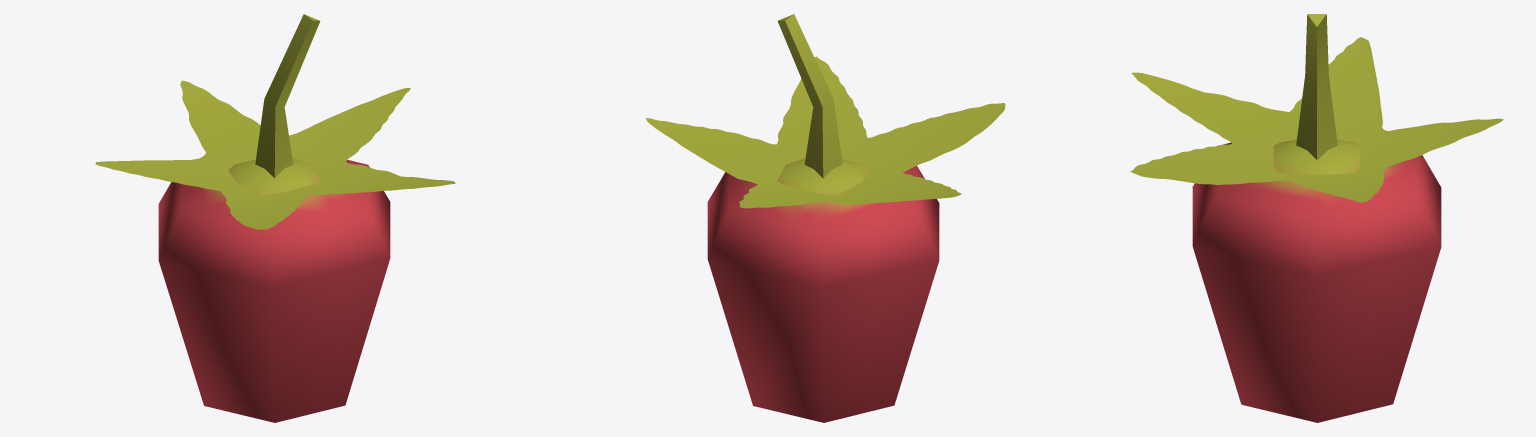
File: Raspberry.fbx
3 renders of one model, left to right at view 1: azimuth 30°, elevation 25°; view 2: azimuth 150°, elevation 25°; view 3: azimuth 270°, elevation 25°, orthographic. The views are drawn at different scales.
Parts seen in each view (by area): view 1: Raspberry; view 2: Raspberry; view 3: Raspberry.
Boxes of the visible parts, bbox=[...] form: Raspberry: bbox=[95, 14, 455, 422]; Raspberry: bbox=[646, 14, 1005, 422]; Raspberry: bbox=[1130, 14, 1503, 422].
Size of the model in its own units: 16.26 by 17.98 by 16.26.
Materials: 1 (1 with a texture image).
